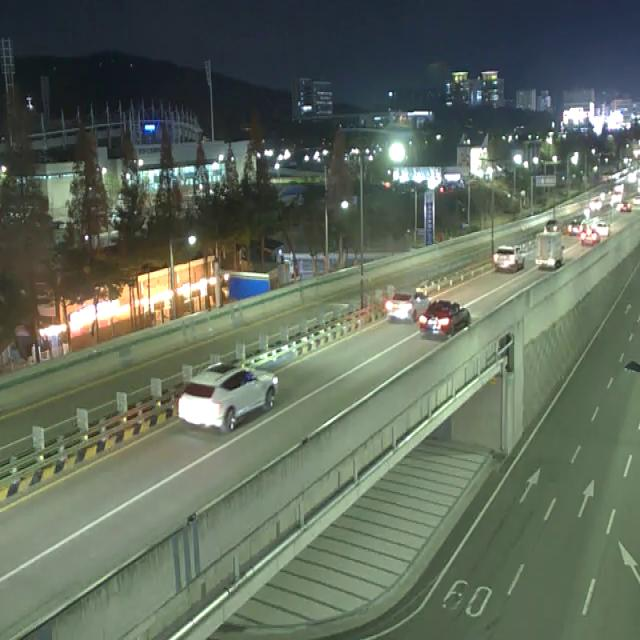Car: (178, 362, 279, 434), (419, 299, 470, 338), (386, 291, 432, 324), (494, 245, 524, 273), (568, 215, 585, 233), (580, 228, 596, 245), (544, 219, 562, 233), (596, 222, 610, 235), (620, 202, 631, 212)
Truck: (535, 232, 563, 269)
